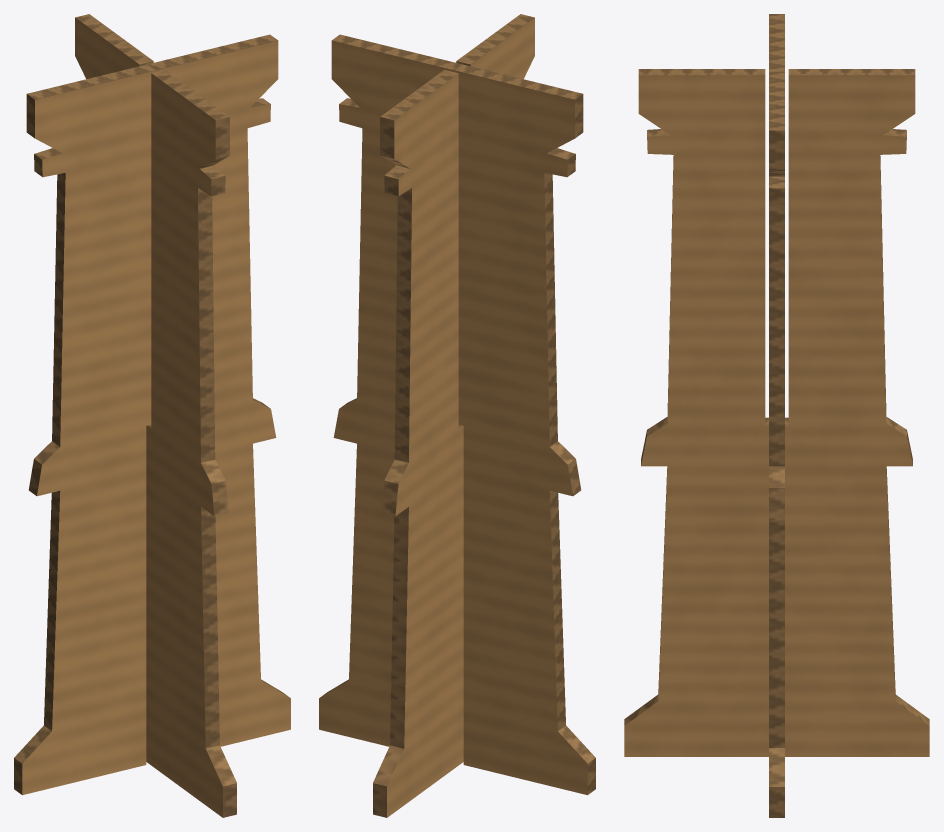
Rendered from column_default.fbx.
3 renders of one model, left to right at view 1: azimuth 30°, elevation 25°; view 2: azimuth 150°, elevation 25°; view 3: azimuth 270°, elevation 25°, orthographic.
Visible parts, largest first — view 1: column_default; view 2: column_default; view 3: column_default.
Part boxes in pixels (box(x1,y1,x2,y2)): column_default: box(14, 14, 290, 817); column_default: box(319, 14, 595, 817); column_default: box(624, 14, 929, 817).
Size of the model in its own units: 163 by 400 by 163.
Materials: 1 (1 with a texture image).
